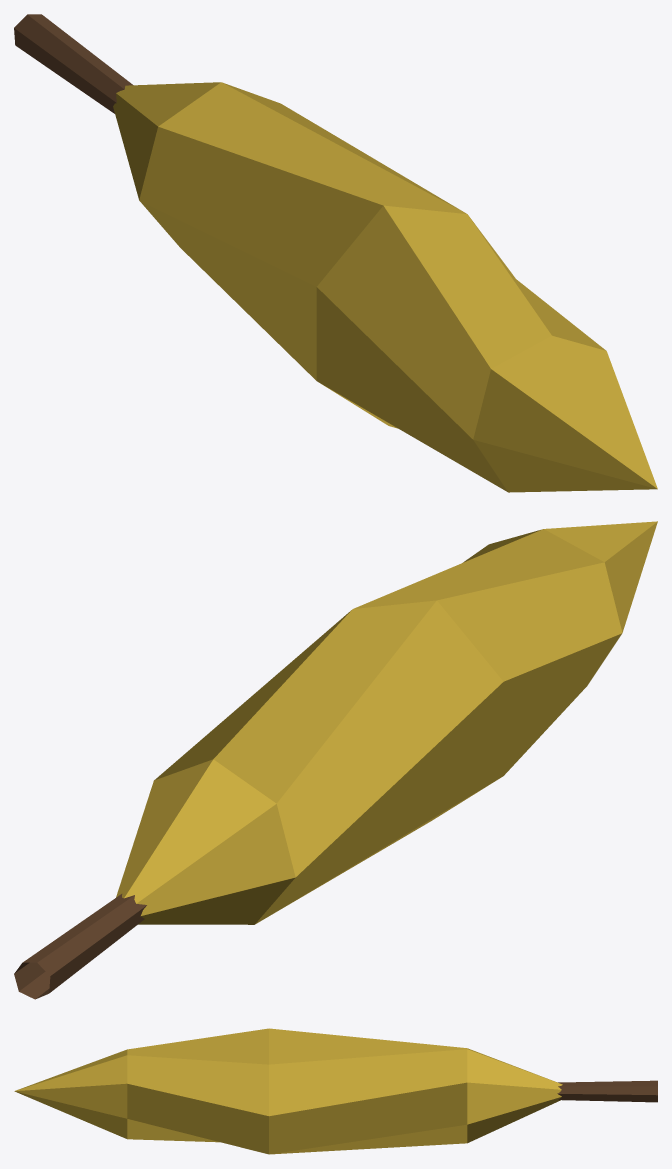
Rendered from growth_1.glb.
3 renders of one model, top to bottom at view 1: azimuth 30°, elevation 25°; view 2: azimuth 150°, elevation 25°; view 3: azimuth 270°, elevation 25°, orthographic. The views are drawn at different scales.
Parts seen in each view (by area): view 1: tree_02_growth_1; view 2: tree_02_growth_1; view 3: tree_02_growth_1.
Part boxes in pixels (x1,y1,x2,y2): tree_02_growth_1: [14, 14, 657, 492]; tree_02_growth_1: [14, 521, 657, 999]; tree_02_growth_1: [14, 1028, 657, 1154].
Size of the model in its own units: 4.63 by 4.92 by 25.17.
